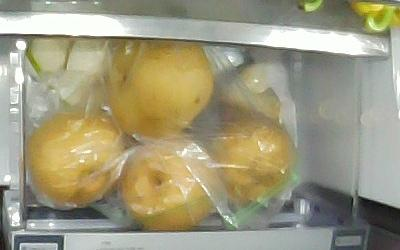pear_vinyl: (105, 37, 214, 140), (26, 112, 124, 203), (122, 140, 210, 230), (214, 115, 294, 202)
